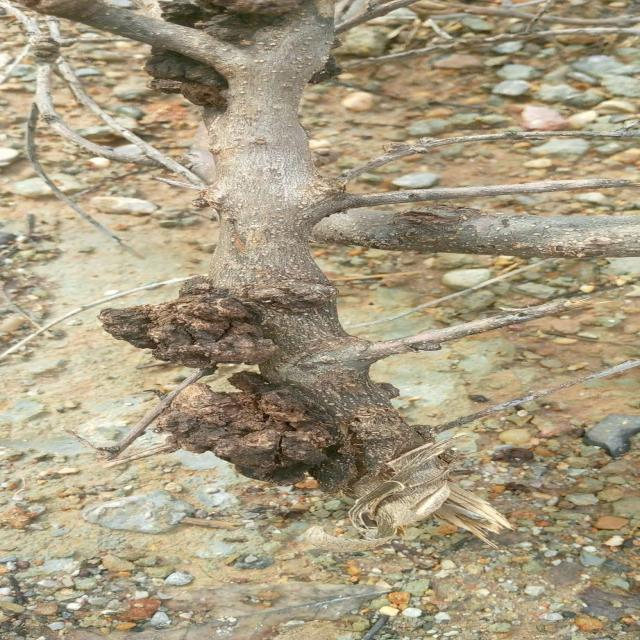Tuberculosis: (157, 371, 357, 491), (99, 283, 276, 369), (160, 0, 311, 44), (144, 47, 228, 111)
